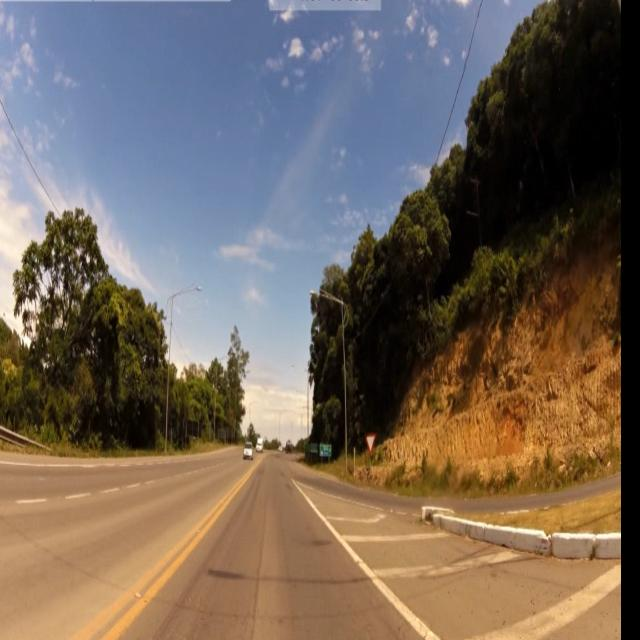R-2: (364, 432, 377, 456)
